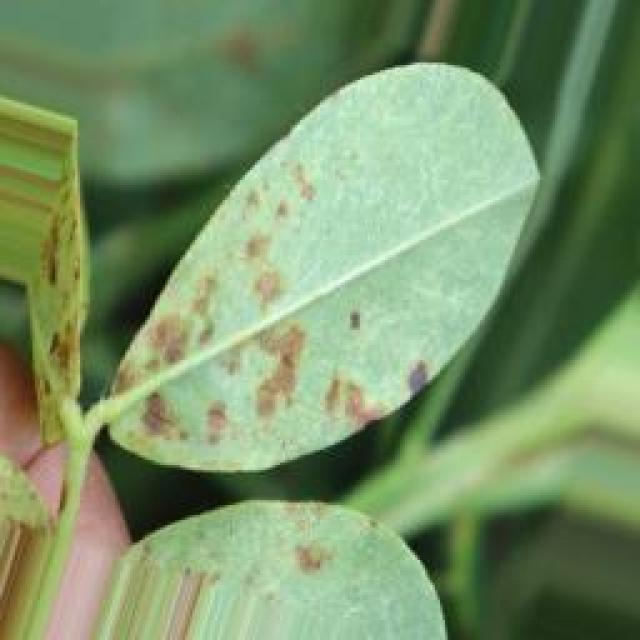Whitefly: (0, 50, 377, 618)
